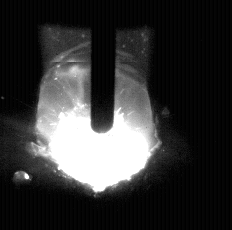arame: (91, 0, 115, 134)
poca: (48, 0, 150, 230)
